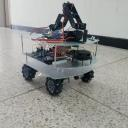cart: (20, 34, 100, 96)
